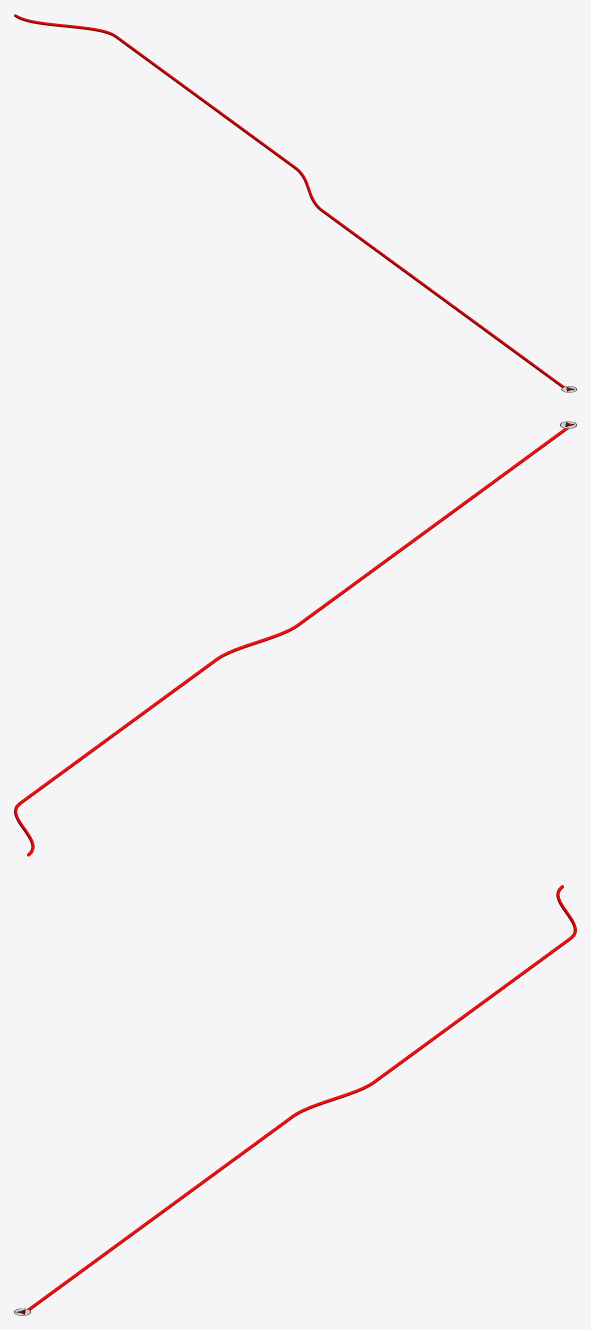
Rendered from route_08061785-6cd6-4e6b-9b5f-a6b02c5295b8_en_single.glb.
The picture shows the model from 3 angles, top to bottom: view 1: azimuth 30°, elevation 25°; view 2: azimuth 150°, elevation 25°; view 3: azimuth 330°, elevation 25°; orthographic projection. The views are drawn at different scales.
Visible parts, largest first — view 1: Physikalische Therapie.023; view 2: Physikalische Therapie.023; view 3: Physikalische Therapie.023.
Part boxes in pixels (<box>): Physikalische Therapie.023: <box>14,14,564,387</box>; Physikalische Therapie.023: <box>14,428,568,856</box>; Physikalische Therapie.023: <box>22,885,576,1315</box>.
Bounding box in the file's own units: 1.71 × 0.109 × 27.57.
